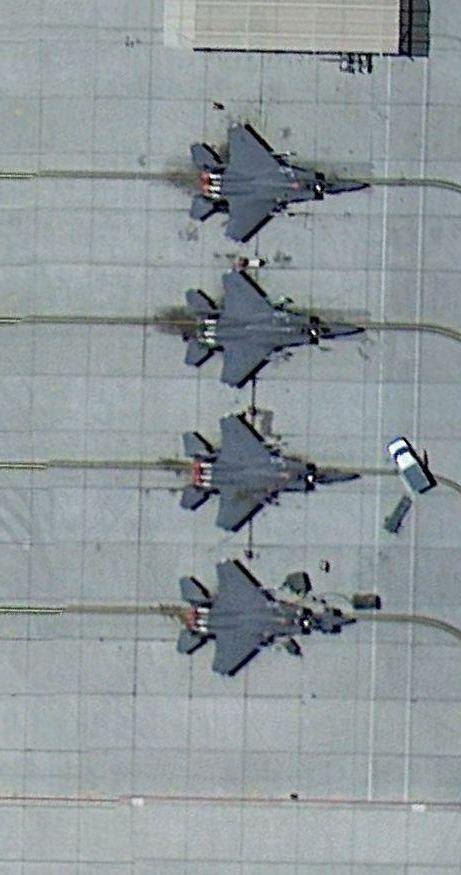F-15: (173, 413, 365, 535), (188, 121, 371, 245), (174, 556, 359, 675), (186, 267, 369, 386)
